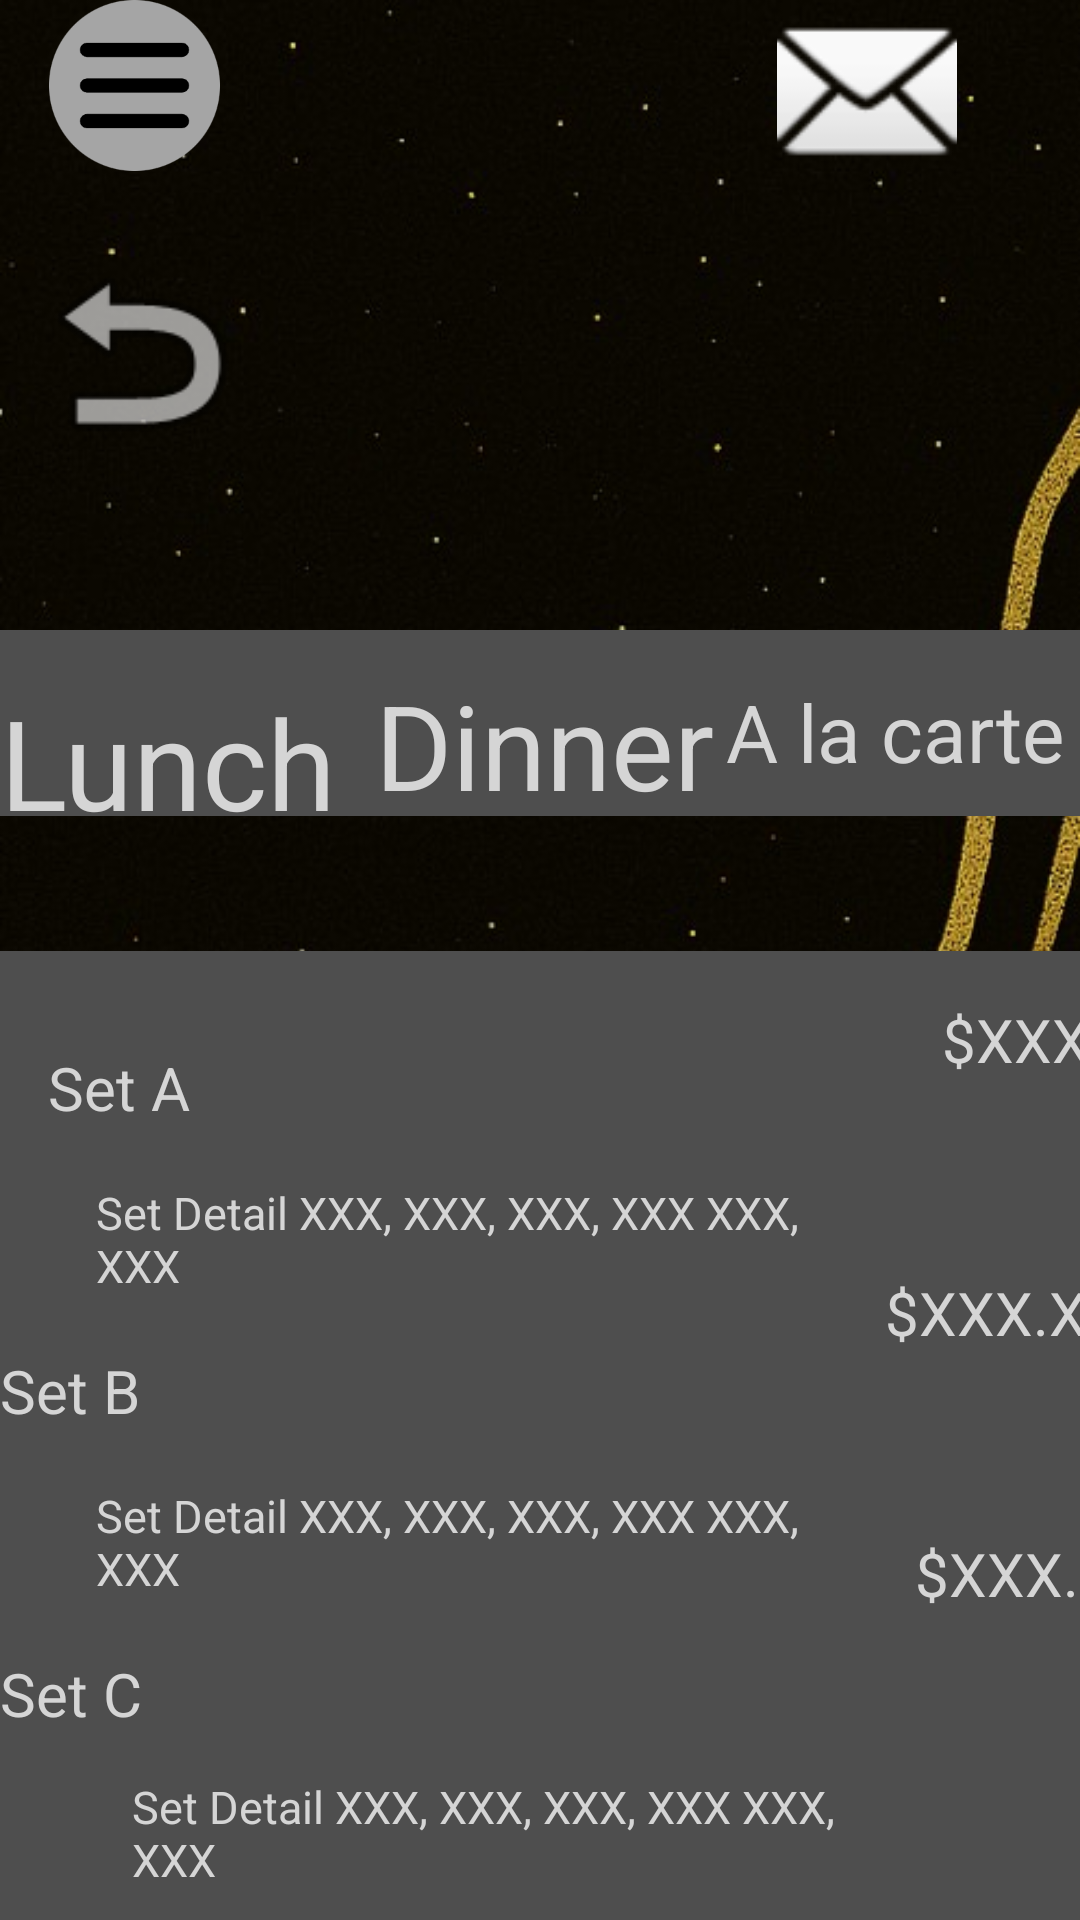

Icon click points for this 1080px x 1920px phone screenshot, format (x,y):
burger menu: (134,85)
email: (854,91)
revert: (155,336)
